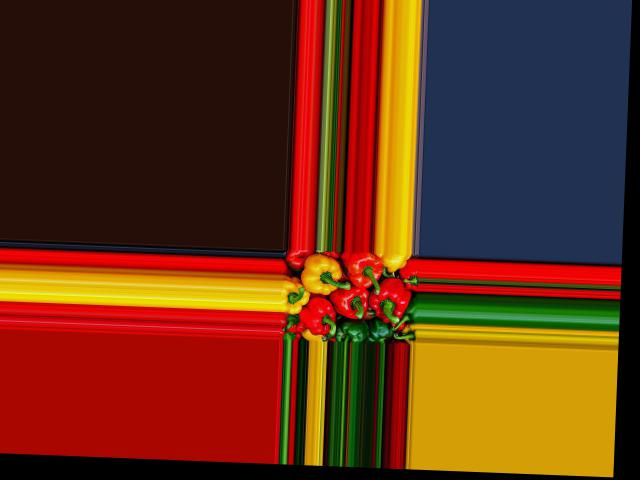bell_pepper: (382, 252, 406, 271)
